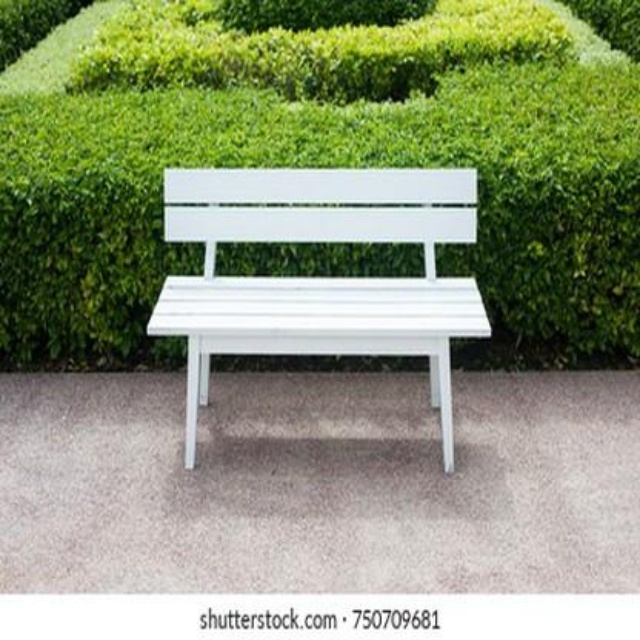obstacle: (126, 148, 500, 506)
